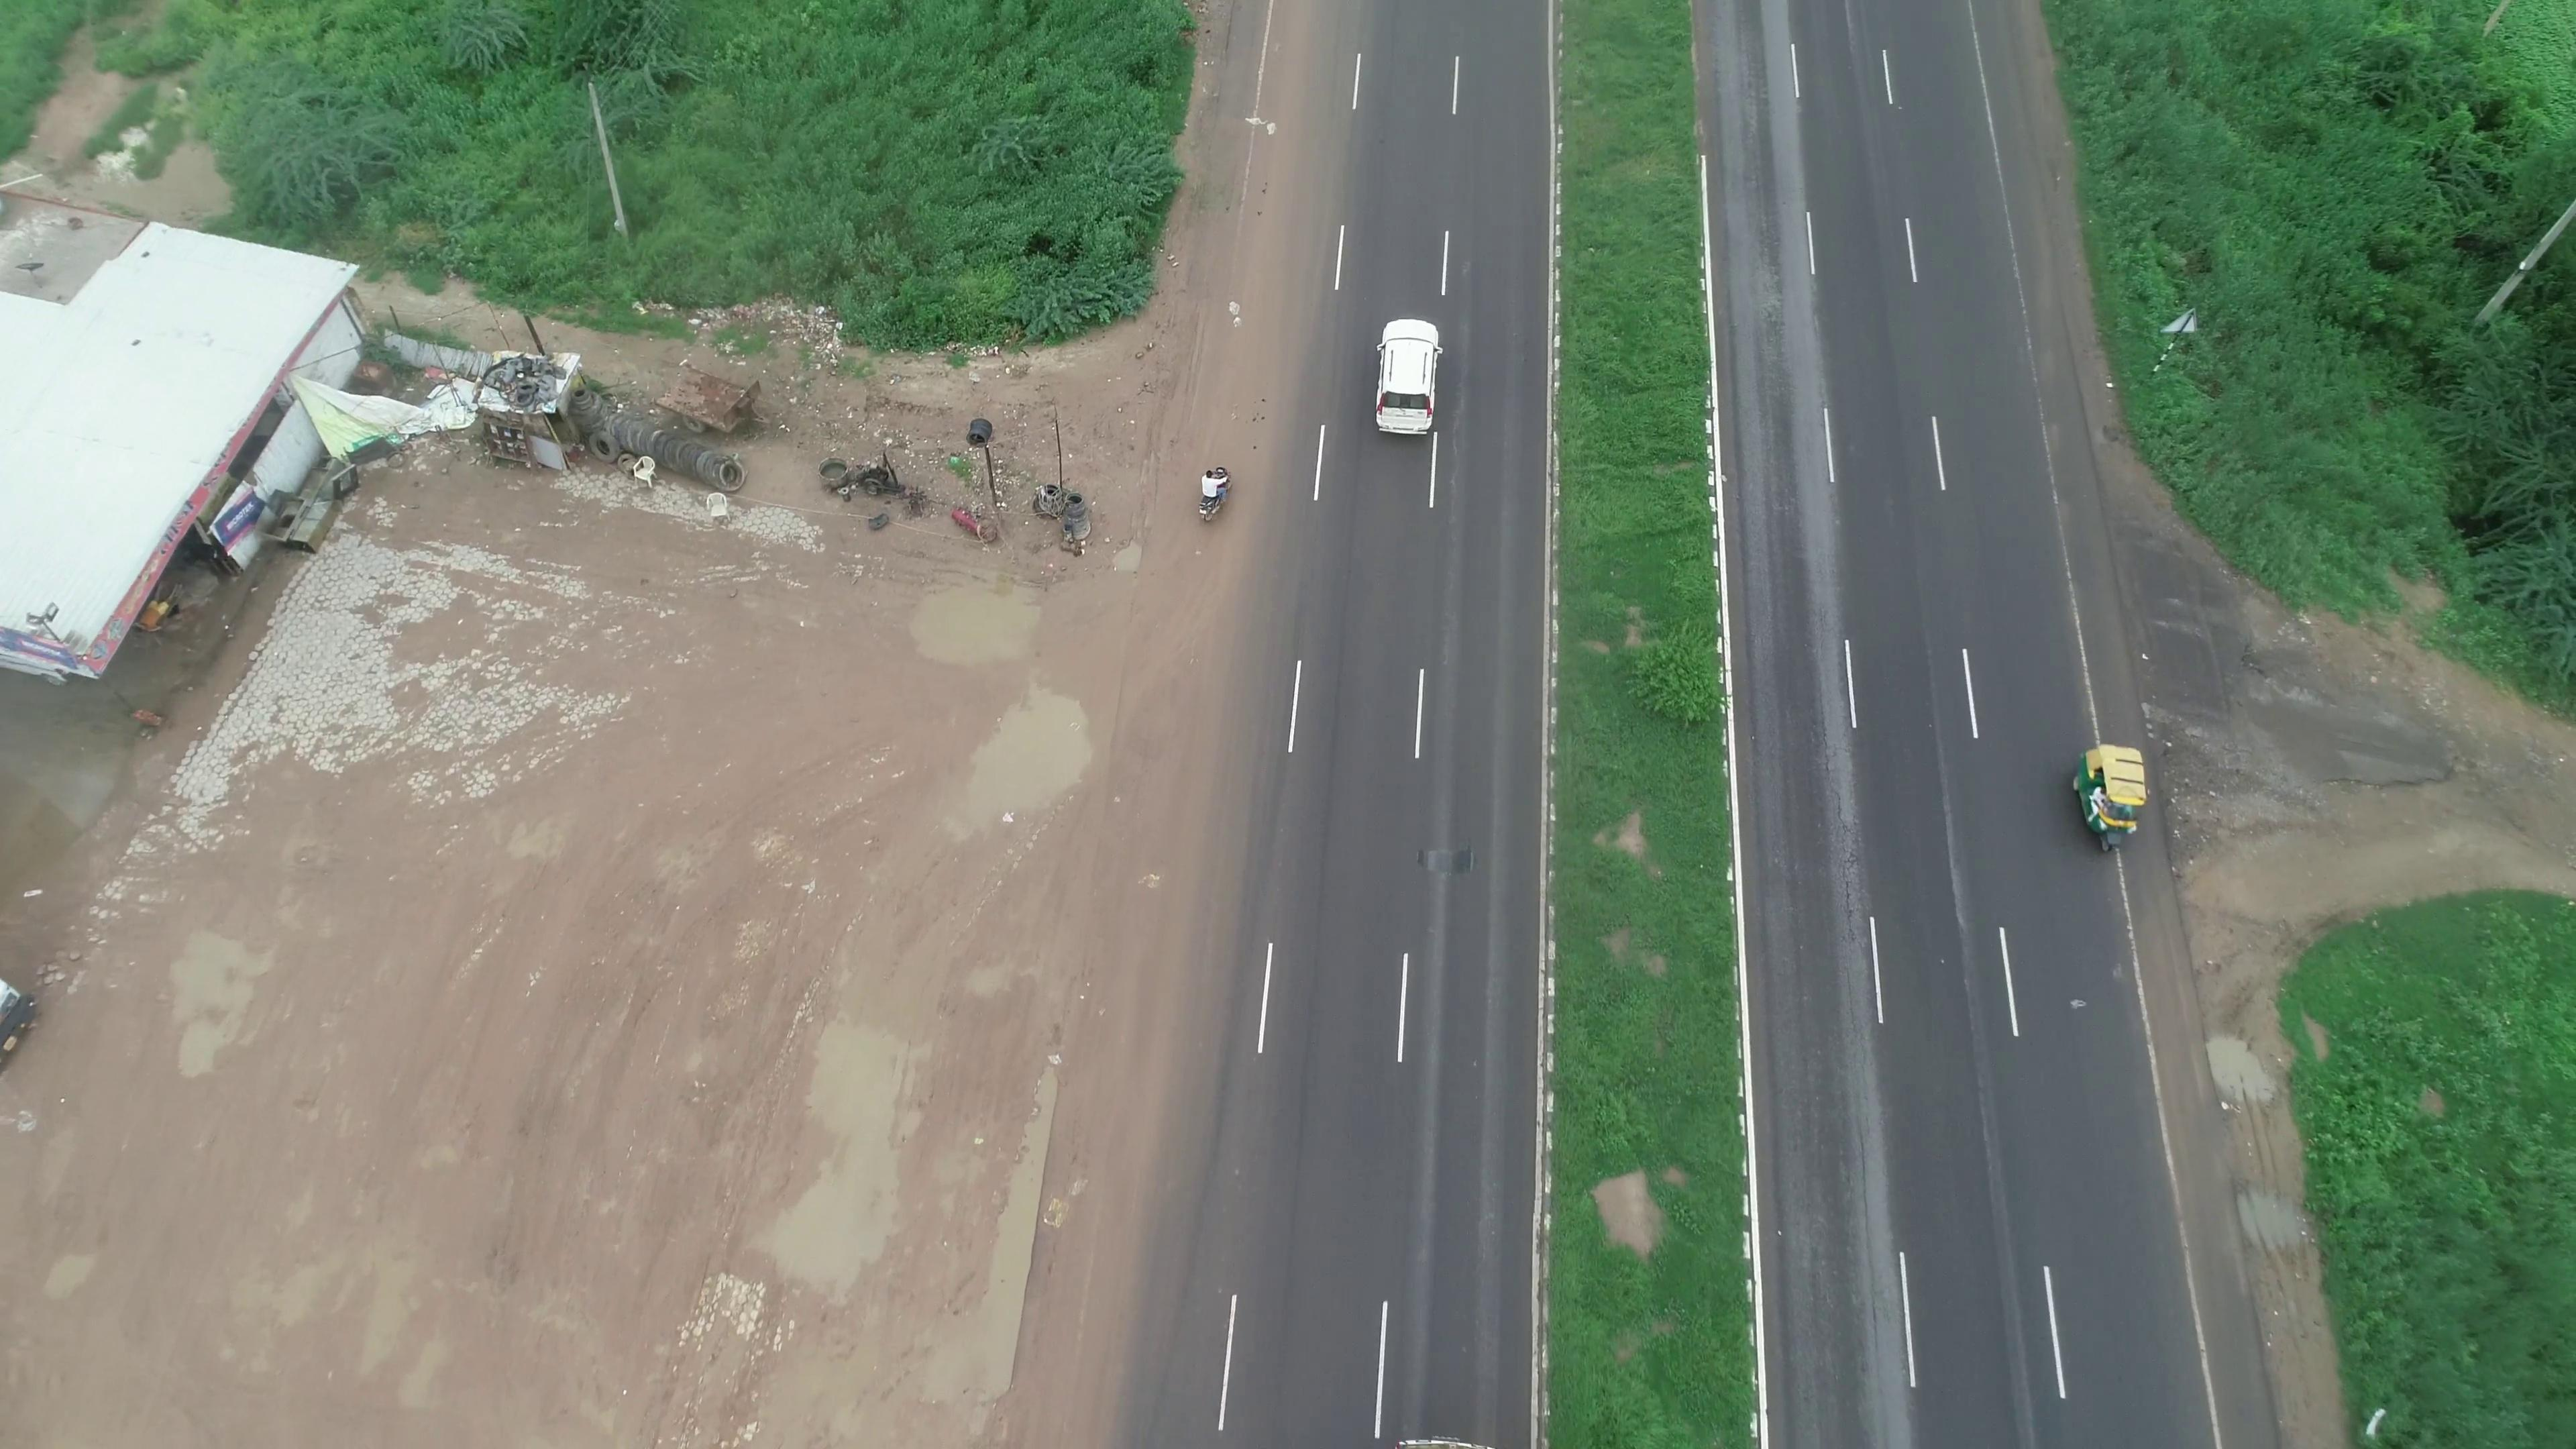Longitudinal_cracks: (1838, 1113, 1890, 1376), (1817, 711, 1863, 945)
